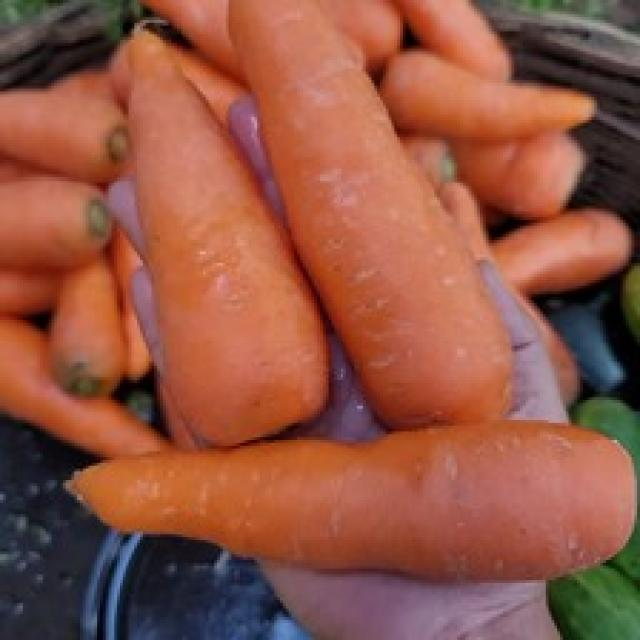Fresh_Carrot: (230, 2, 509, 426), (111, 32, 329, 447), (70, 421, 635, 579)
